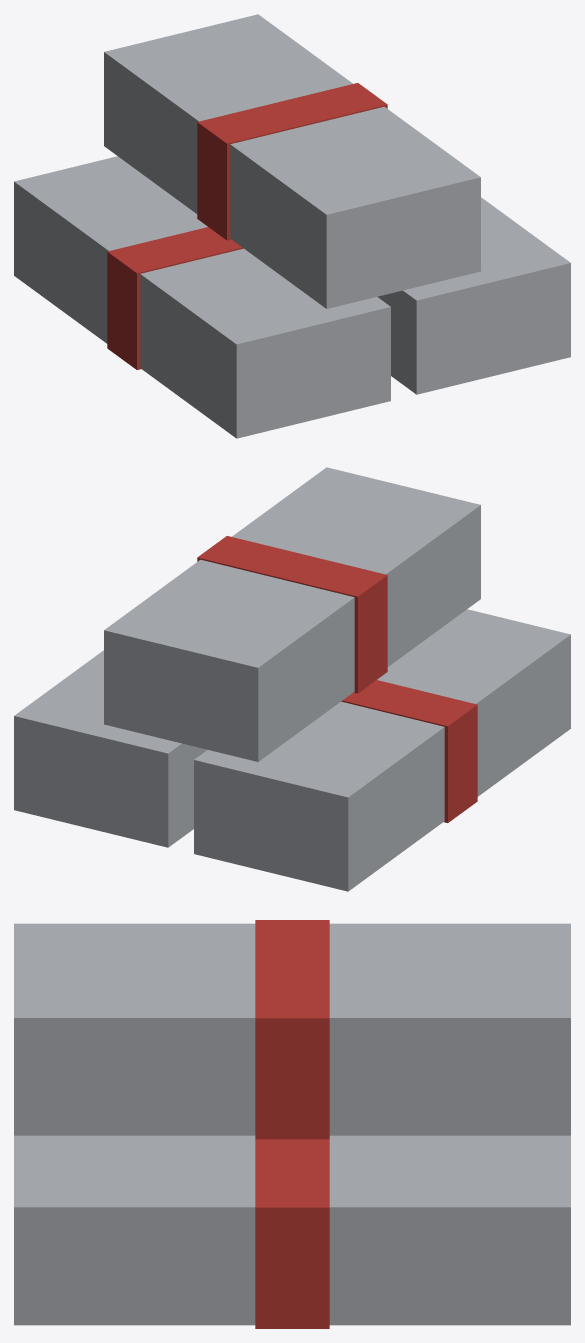
The model's file is aco_imperial.glb.
3 renders of one model, top to bottom at view 1: azimuth 30°, elevation 25°; view 2: azimuth 150°, elevation 25°; view 3: azimuth 270°, elevation 25°, orthographic. The views are drawn at different scales.
Parts seen in each view (by area): view 1: Cube; view 2: Cube; view 3: Cube.
Boxes of the visible parts, left/top/right/bottom form: Cube: left=14, top=14, right=570, bottom=438; Cube: left=14, top=467, right=570, bottom=891; Cube: left=14, top=920, right=570, bottom=1328.
Bounding box in the file's own units: 0.265 × 0.152 × 0.3.
